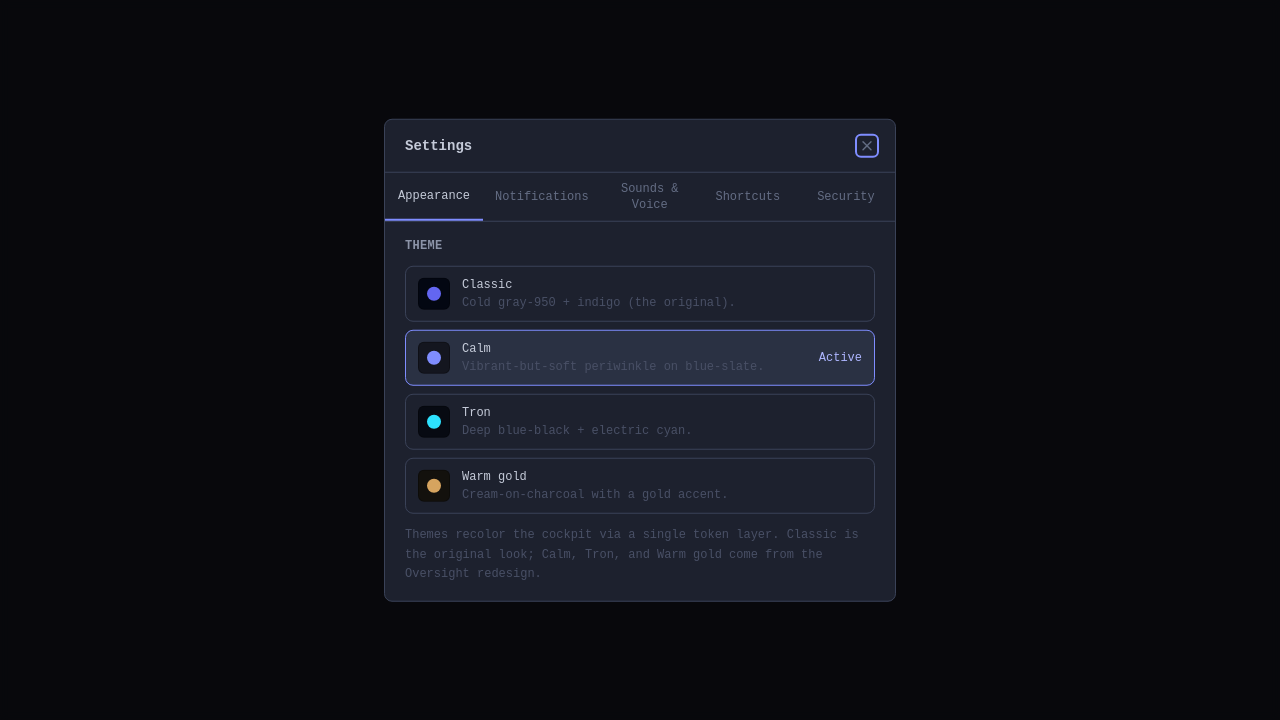
SettingsModal — tab switching › switches to Shortcuts tab
Step 1. Click the button "Shortcuts" → x=748, y=197, box 699,173 -> 797,221
(page scrolled)
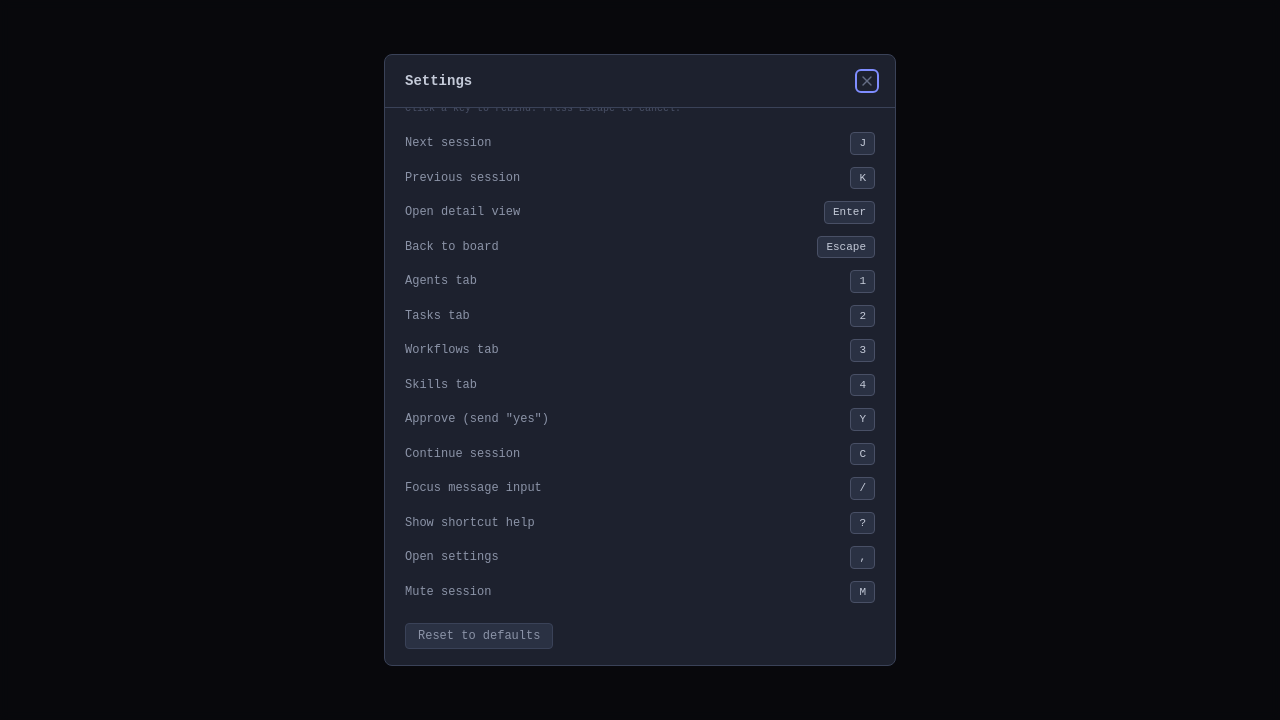
Now the button "Reset to defaults" is shown, box 405,623 -> 553,649
